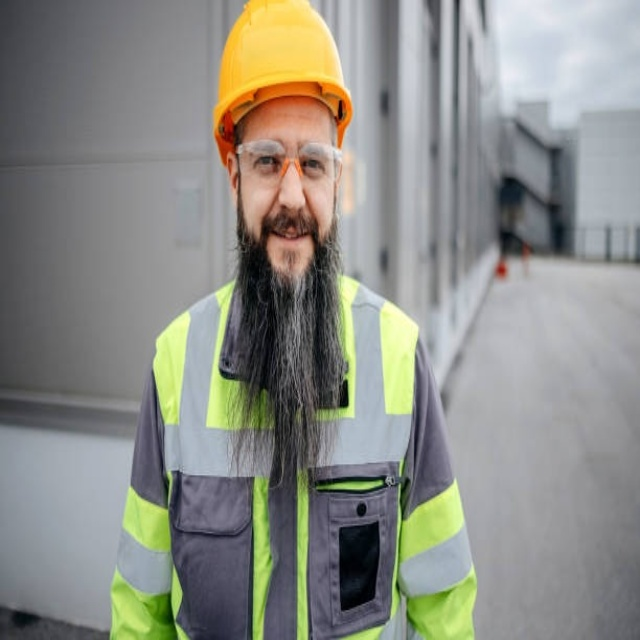Gafas: (234, 141, 344, 185)
Sin_mascara: (266, 215, 314, 264)
